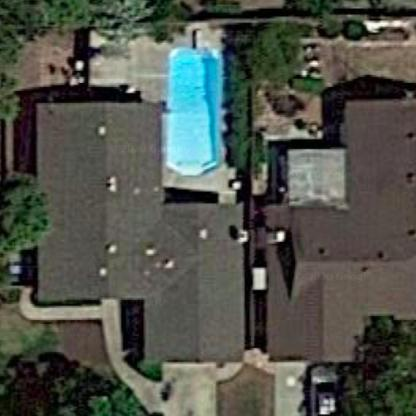car: (309, 359, 350, 416)
swimming_pool: (156, 32, 229, 181)
